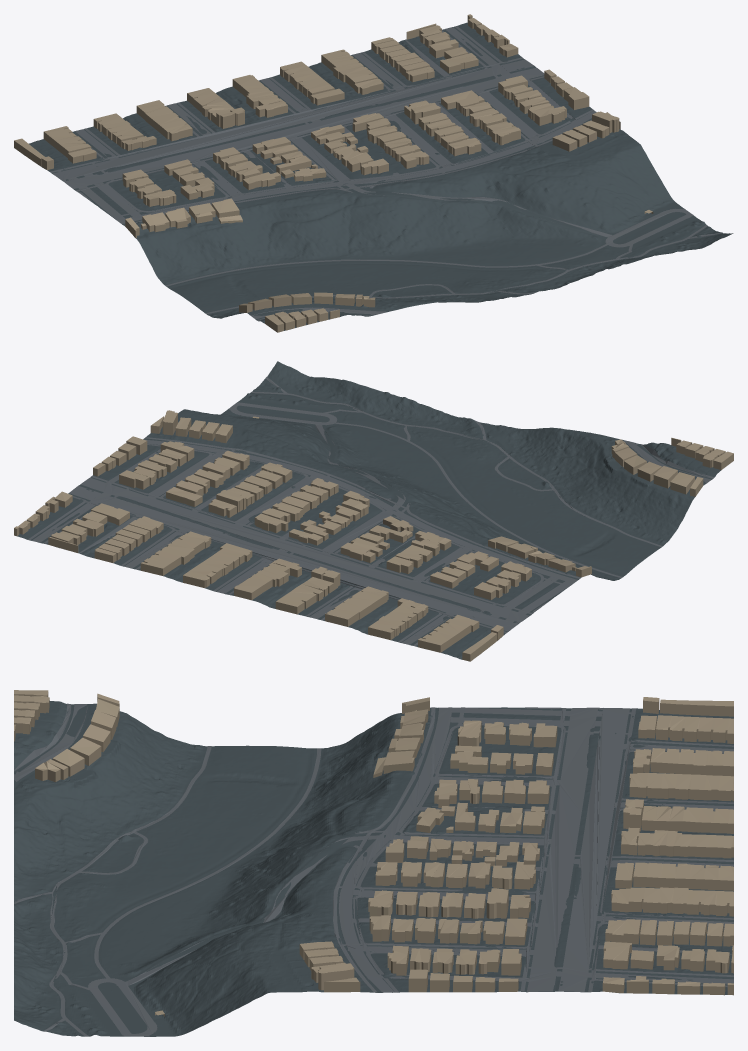
File: epsg26910-1420-10876.lod0.glb
3 renders of one model, top to bottom at view 1: azimuth 30°, elevation 25°; view 2: azimuth 150°, elevation 25°; view 3: azimuth 270°, elevation 25°, orthographic. The views are drawn at different scales.
Parts seen in each view (by area): view 1: epsg26910-1420-10876-lod0; view 2: epsg26910-1420-10876-lod0; view 3: epsg26910-1420-10876-lod0.
Part boxes in pixels (box(x1,y1,x2,y2)): epsg26910-1420-10876-lod0: box(14, 14, 733, 332); epsg26910-1420-10876-lod0: box(14, 361, 733, 661); epsg26910-1420-10876-lod0: box(14, 690, 733, 1036).
Bounding box in the file's own units: 384 × 45.78 × 384.
